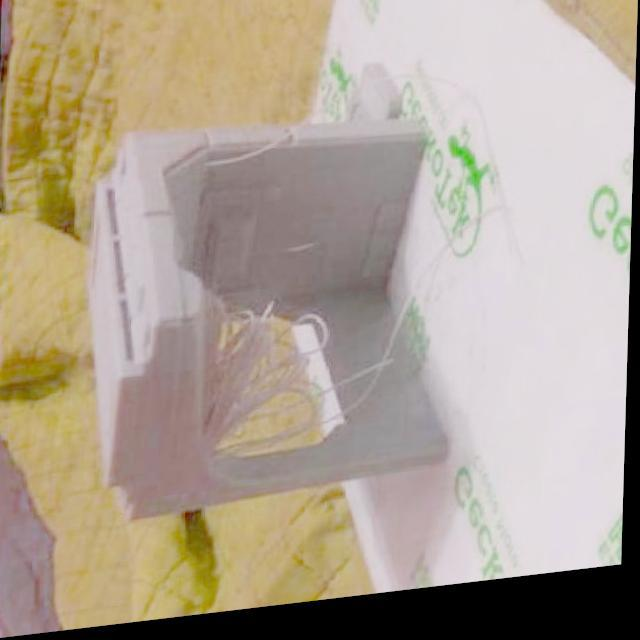spaghetti: (187, 278, 400, 483)
